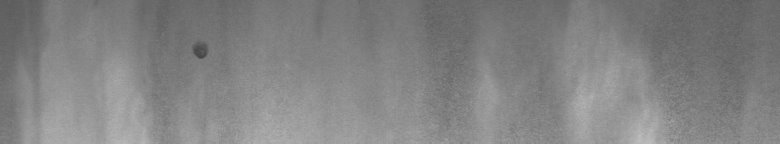fi: (188, 36, 213, 64)
